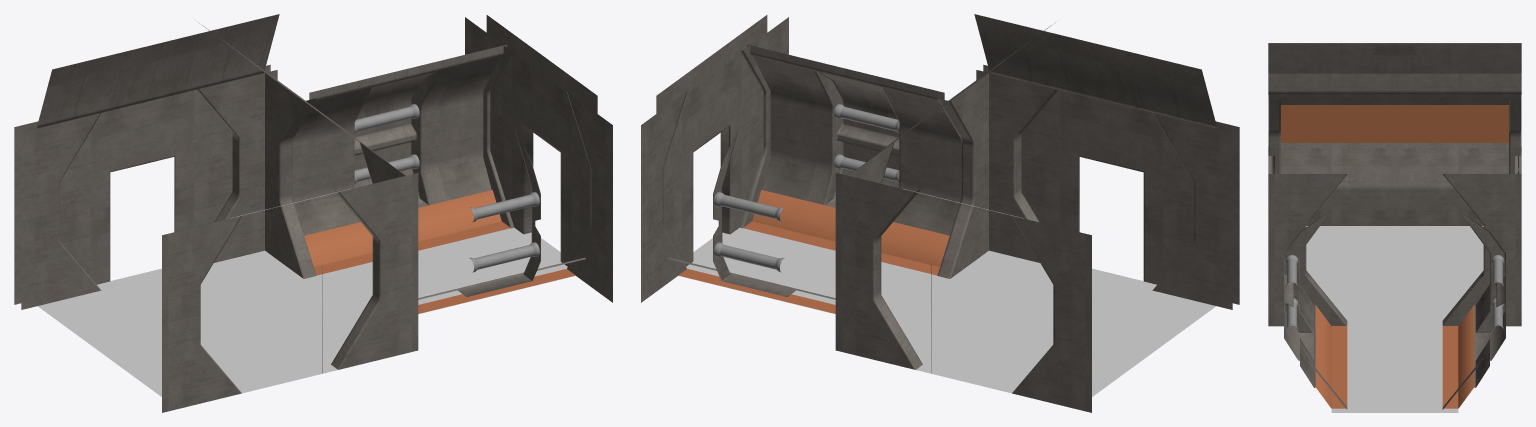
Rendered from HC_room1.gltf.
3 views of the same model, side by side, from view 1: azimuth 30°, elevation 25°; view 2: azimuth 150°, elevation 25°; view 3: azimuth 270°, elevation 25° (orthographic). The views are drawn at different scales.
Parts seen in each view (by area): view 1: 3room_HCZ; view 2: 3room_HCZ; view 3: 3room_HCZ.
Boxes of the visible parts, <box> form: 3room_HCZ: <box>14,14,612,412</box>; 3room_HCZ: <box>641,14,1239,412</box>; 3room_HCZ: <box>1268,43,1521,412</box>.
Bounding box in the file's own units: 14.47 × 7.38 × 8.
